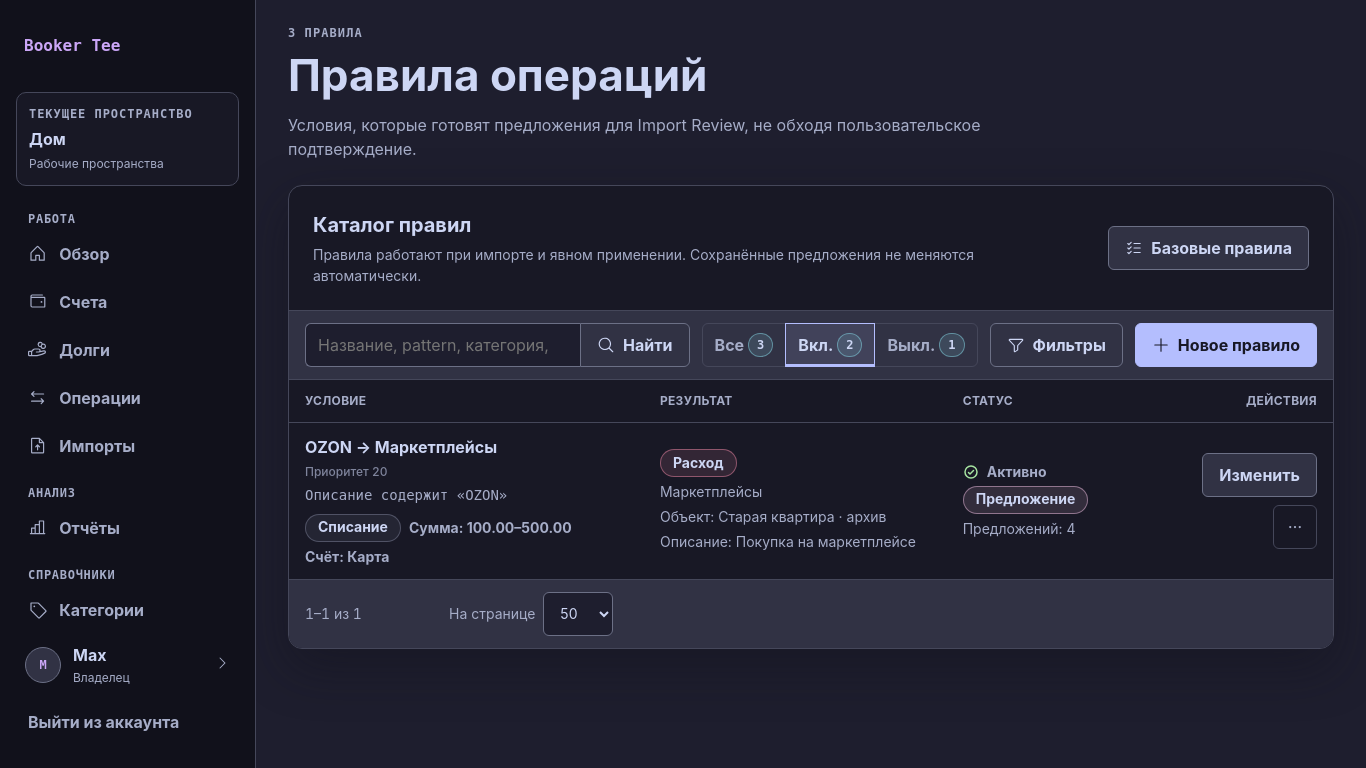
Scenario: TransactionRulesPage › removes a disabled rule from the active URL view and updates counts
Click the button named "Ещё действия". click: (1295, 527)
box: [1273,505,1317,549]
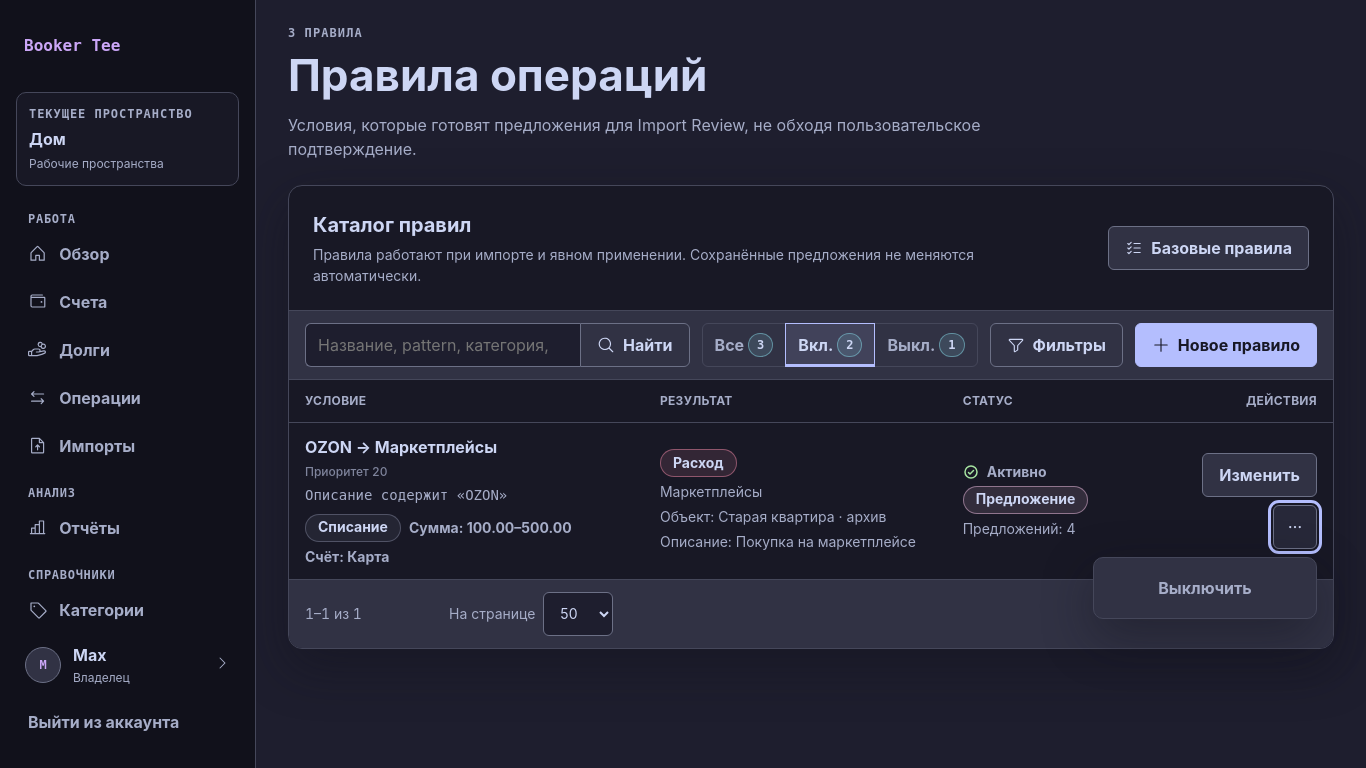
Click the button "Выключить". click: (1205, 588)
box: [1102,566,1308,610]
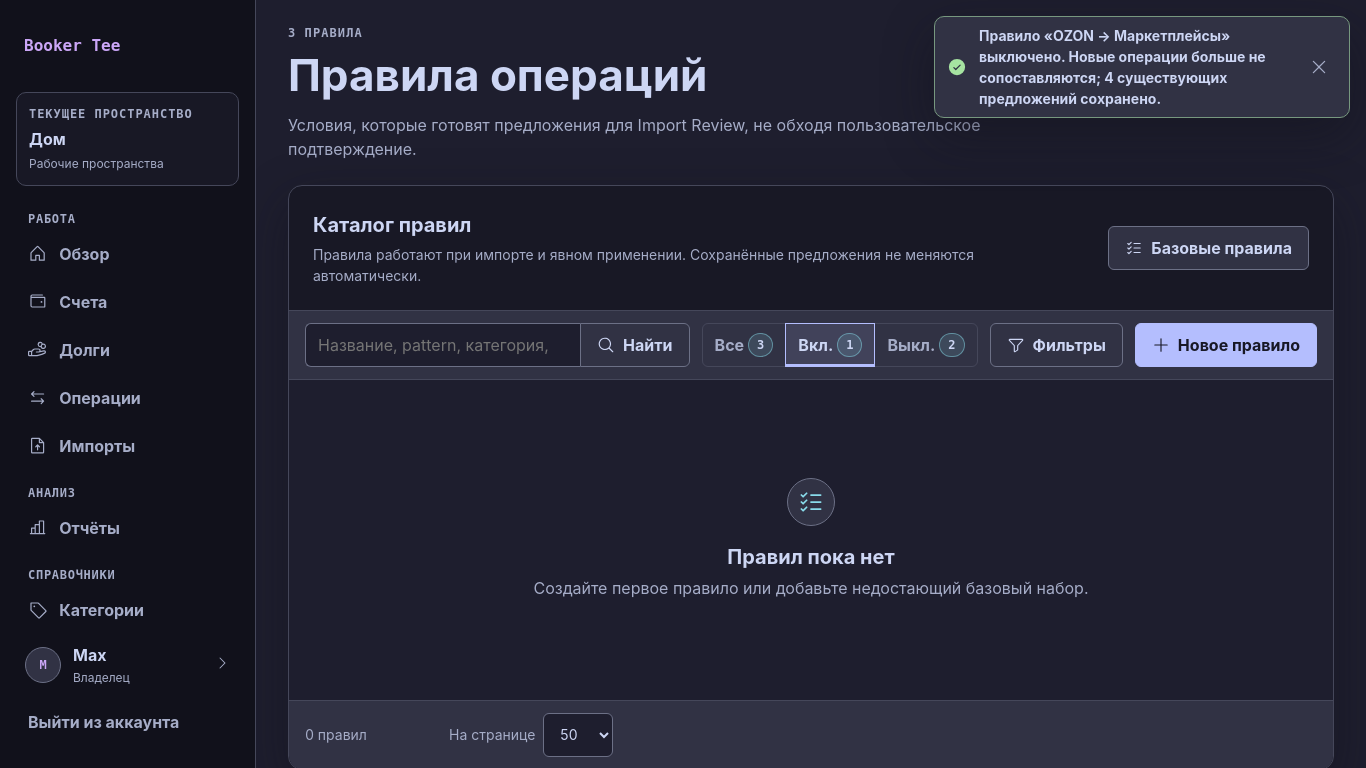
Check: the heading "Правил пока нет" is shown, box [727,545,895,569]
Check: the link with aria-label "Активные правила: 1" is shown, box [785,323,876,367]
Check: the link with aria-label "Выключенные правила: 2" is shown, box [874,323,978,367]
